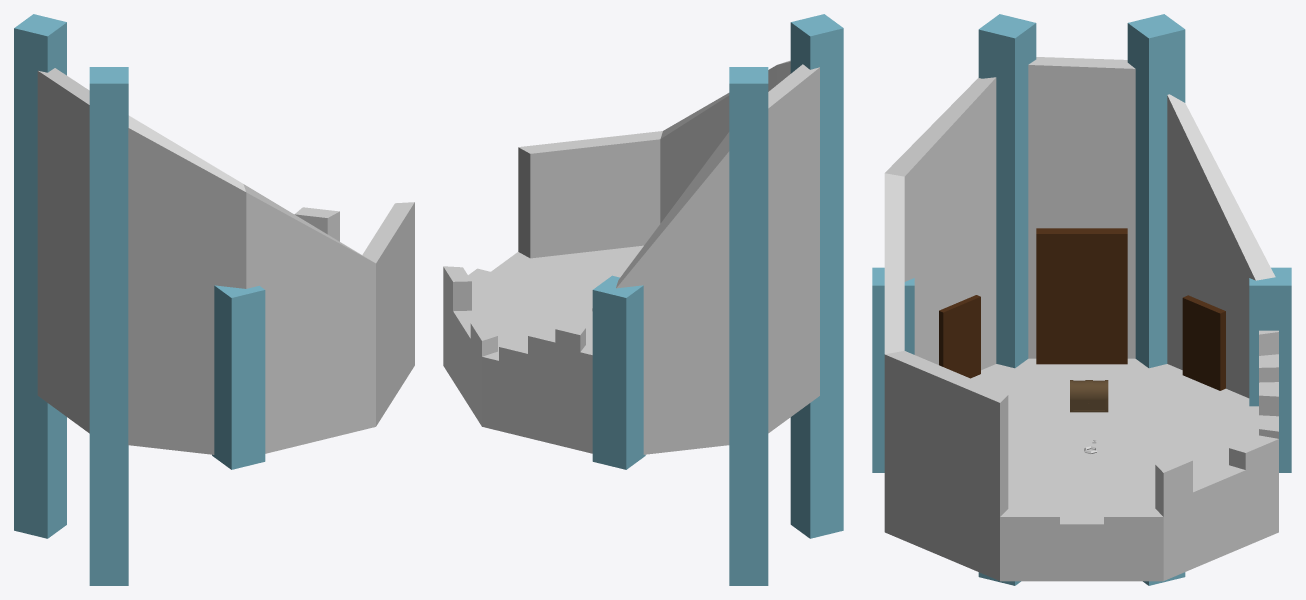
The model's file is CastleHub3.fbx.
The picture shows the model from 3 angles, left to right: view 1: azimuth 30°, elevation 25°; view 2: azimuth 150°, elevation 25°; view 3: azimuth 270°, elevation 25°; orthographic projection. The views are drawn at different scales.
Visible parts, largest first — view 1: Cylinder.067, Cube.148, Cube.147; view 2: Cylinder.067, Cube.148, Cube.147, Cylinder.070; view 3: Cylinder.067, Cube.148, Cube.143, Cube.147, Cube.144, Cube.131, Cylinder.070, Cube.146, Coffre.
Part boxes in pixels (x1=…): Cylinder.067: x1=37, y1=68, x2=414, y2=454; Cube.148: x1=14, y1=14, x2=128, y2=585; Cube.147: x1=212, y1=285, x2=265, y2=469; Cylinder.067: x1=443, y1=60, x2=819, y2=454; Cube.148: x1=729, y1=14, x2=843, y2=585; Cube.147: x1=592, y1=275, x2=645, y2=469; Cylinder.070: x1=482, y1=322, x2=592, y2=394; Cylinder.067: x1=884, y1=57, x2=1278, y2=581; Cube.148: x1=978, y1=14, x2=1185, y2=585; Cube.143: x1=1036, y1=228, x2=1127, y2=364; Cube.147: x1=872, y1=267, x2=1291, y2=472; Cube.144: x1=1182, y1=295, x2=1225, y2=390; Cube.131: x1=939, y1=295, x2=980, y2=378; Cylinder.070: x1=1259, y1=330, x2=1278, y2=438; Cube.146: x1=1060, y1=513, x2=1103, y2=546; Coffre: x1=1070, y1=380, x2=1108, y2=412.
Bounding box in the file's own units: 10.65 × 15.1 × 10.48.
